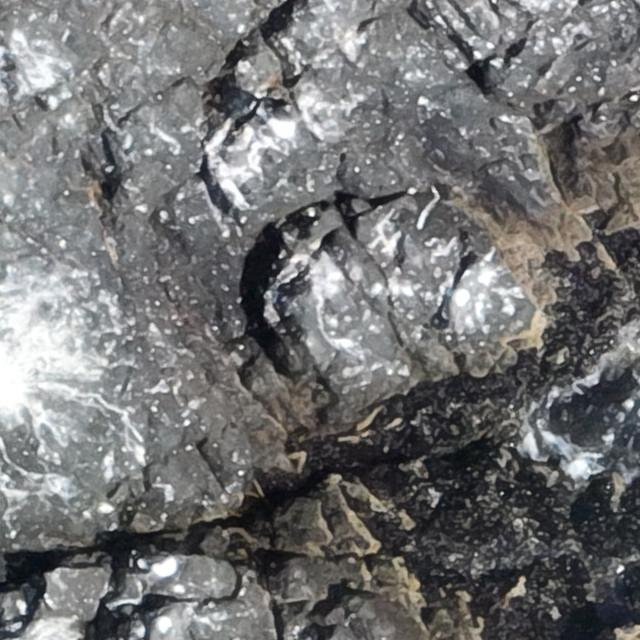umineko: (263, 102, 295, 140)
